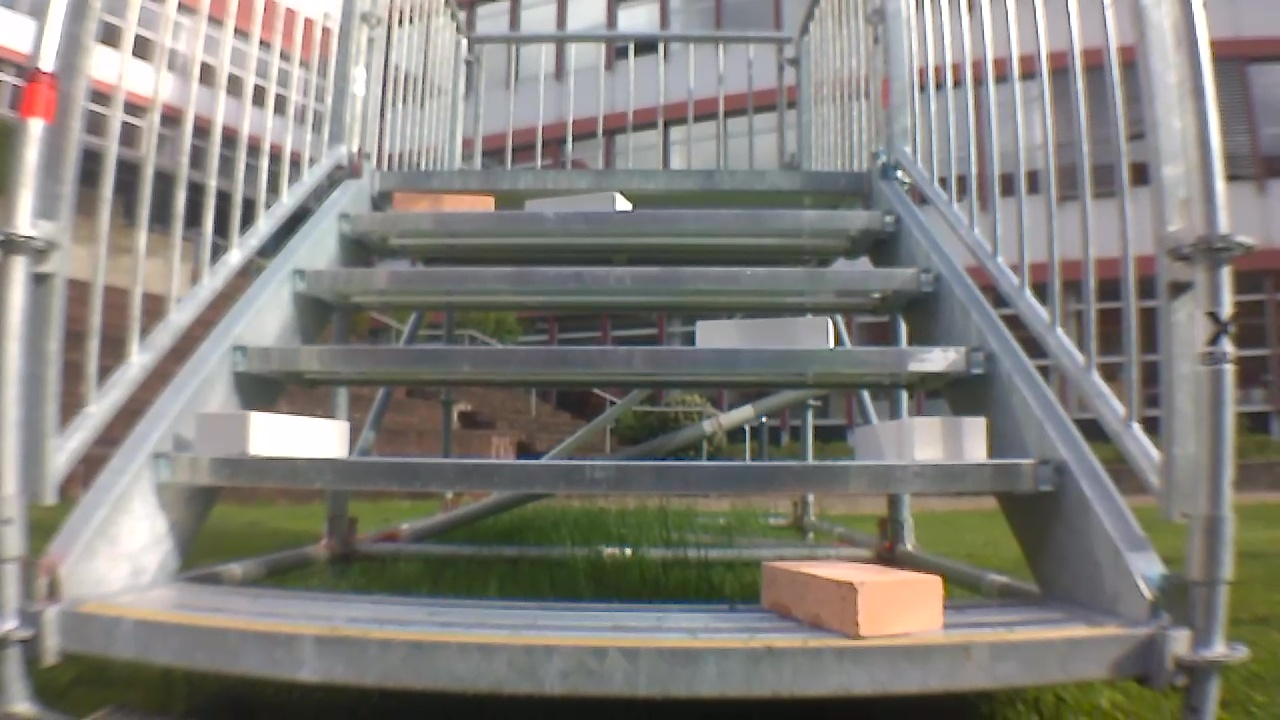brick: (763, 560, 943, 636), (194, 410, 348, 457), (855, 418, 985, 460), (695, 316, 832, 348), (524, 190, 631, 212), (393, 194, 492, 211)
edge: (61, 612, 1152, 697), (151, 454, 1064, 494), (232, 347, 990, 373), (291, 268, 937, 289), (341, 211, 899, 233), (373, 169, 871, 190)
stairs: (5, 2, 1249, 715)
steps: (52, 164, 1169, 704)
